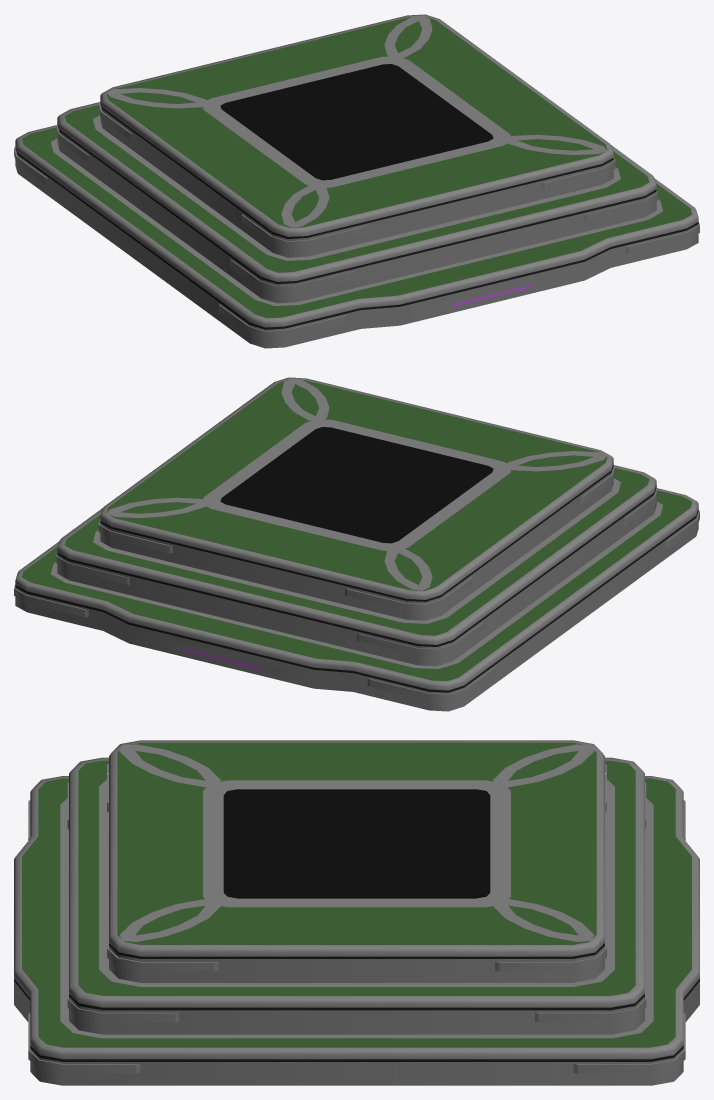
File: W_O_Forum_Flowerbed_001_L1.fbx
3 views of the same model, one above another, from view 1: azimuth 30°, elevation 25°; view 2: azimuth 150°, elevation 25°; view 3: azimuth 270°, elevation 25° (orthographic). The views are drawn at different scales.
Parts seen in each view (by area): view 1: W_O_Forum_Flowerbed_001_L1; view 2: W_O_Forum_Flowerbed_001_L1; view 3: W_O_Forum_Flowerbed_001_L1.
Part boxes in pixels (x1,y1,x2,y2): W_O_Forum_Flowerbed_001_L1: [14, 14, 699, 348]; W_O_Forum_Flowerbed_001_L1: [14, 377, 699, 711]; W_O_Forum_Flowerbed_001_L1: [14, 740, 699, 1085].
Bounding box in the file's own units: 12.07 × 2.12 × 12.6.
